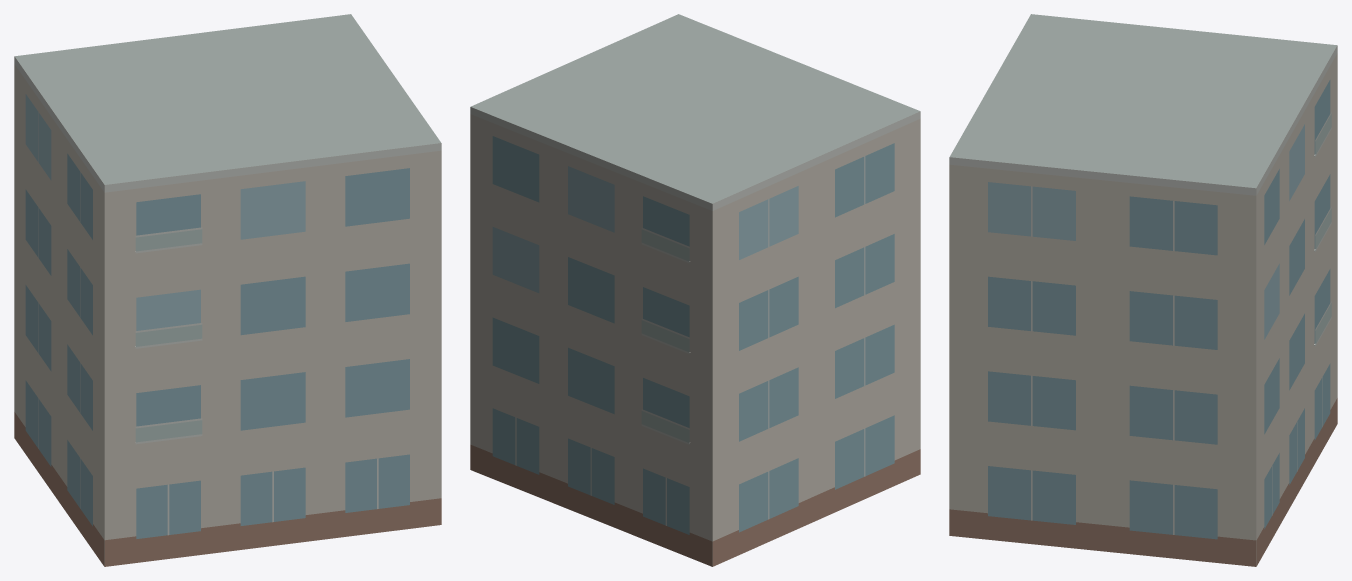
Rendered from residential-27f9f23d-1e38-4e8d-a343-7cfd540cf1a1.glb.
3 renders of one model, left to right at view 1: azimuth 30°, elevation 25°; view 2: azimuth 150°, elevation 25°; view 3: azimuth 270°, elevation 25°, orthographic. The views are drawn at different scales.
Visible parts, largest first — view 1: residential-27f9f23d-1e38-4e8d-a343-7cfd540cf1a1.tmp; view 2: residential-27f9f23d-1e38-4e8d-a343-7cfd540cf1a1.tmp; view 3: residential-27f9f23d-1e38-4e8d-a343-7cfd540cf1a1.tmp.
Boxes of the visible parts, left/top/right/bottom form: residential-27f9f23d-1e38-4e8d-a343-7cfd540cf1a1.tmp: left=14, top=14, right=441, bottom=566; residential-27f9f23d-1e38-4e8d-a343-7cfd540cf1a1.tmp: left=470, top=14, right=920, bottom=566; residential-27f9f23d-1e38-4e8d-a343-7cfd540cf1a1.tmp: left=949, top=14, right=1337, bottom=566.
Size of the model in its own units: 12.05 by 12.2 by 11.34.
